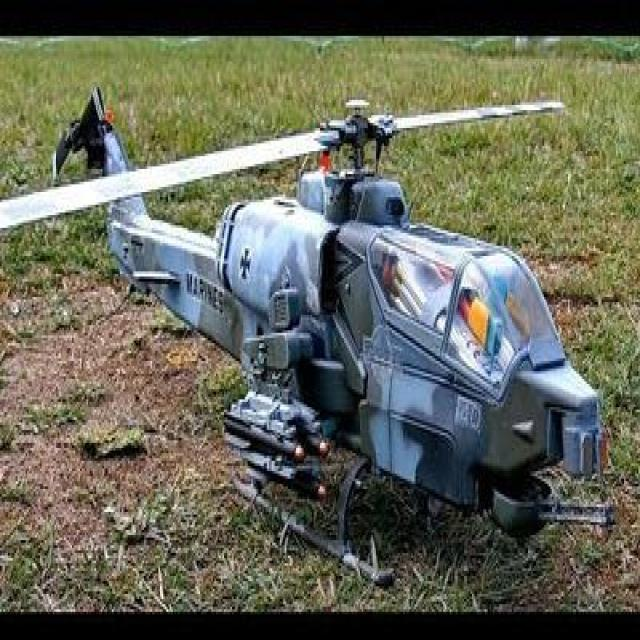MIL_HELO: (0, 88, 640, 586)
